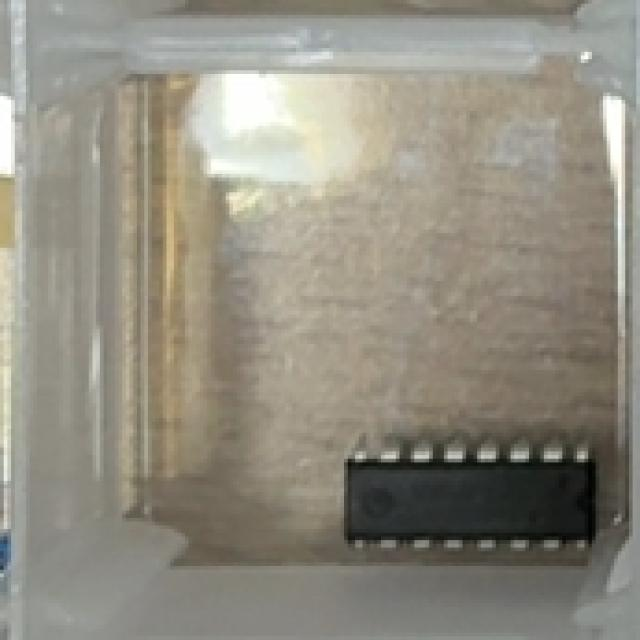IC: (344, 431, 599, 559)
